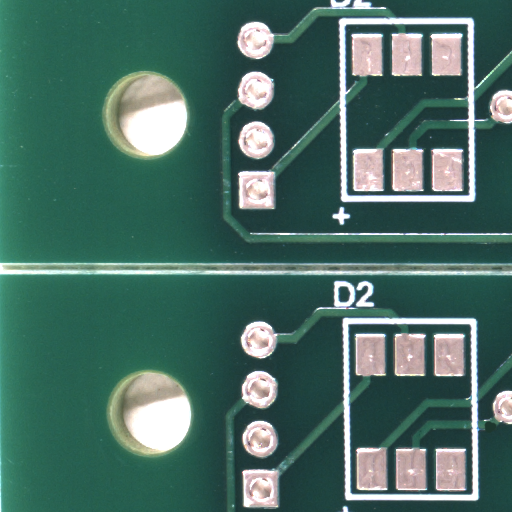Mouse_bite: (490, 427, 501, 437)
